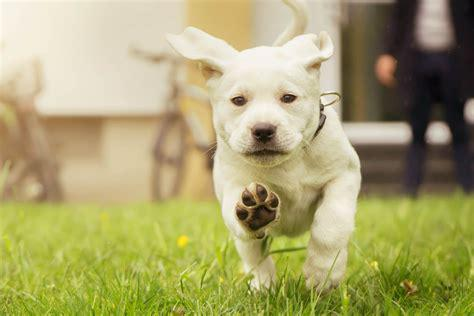dog: (165, 1, 360, 290)
